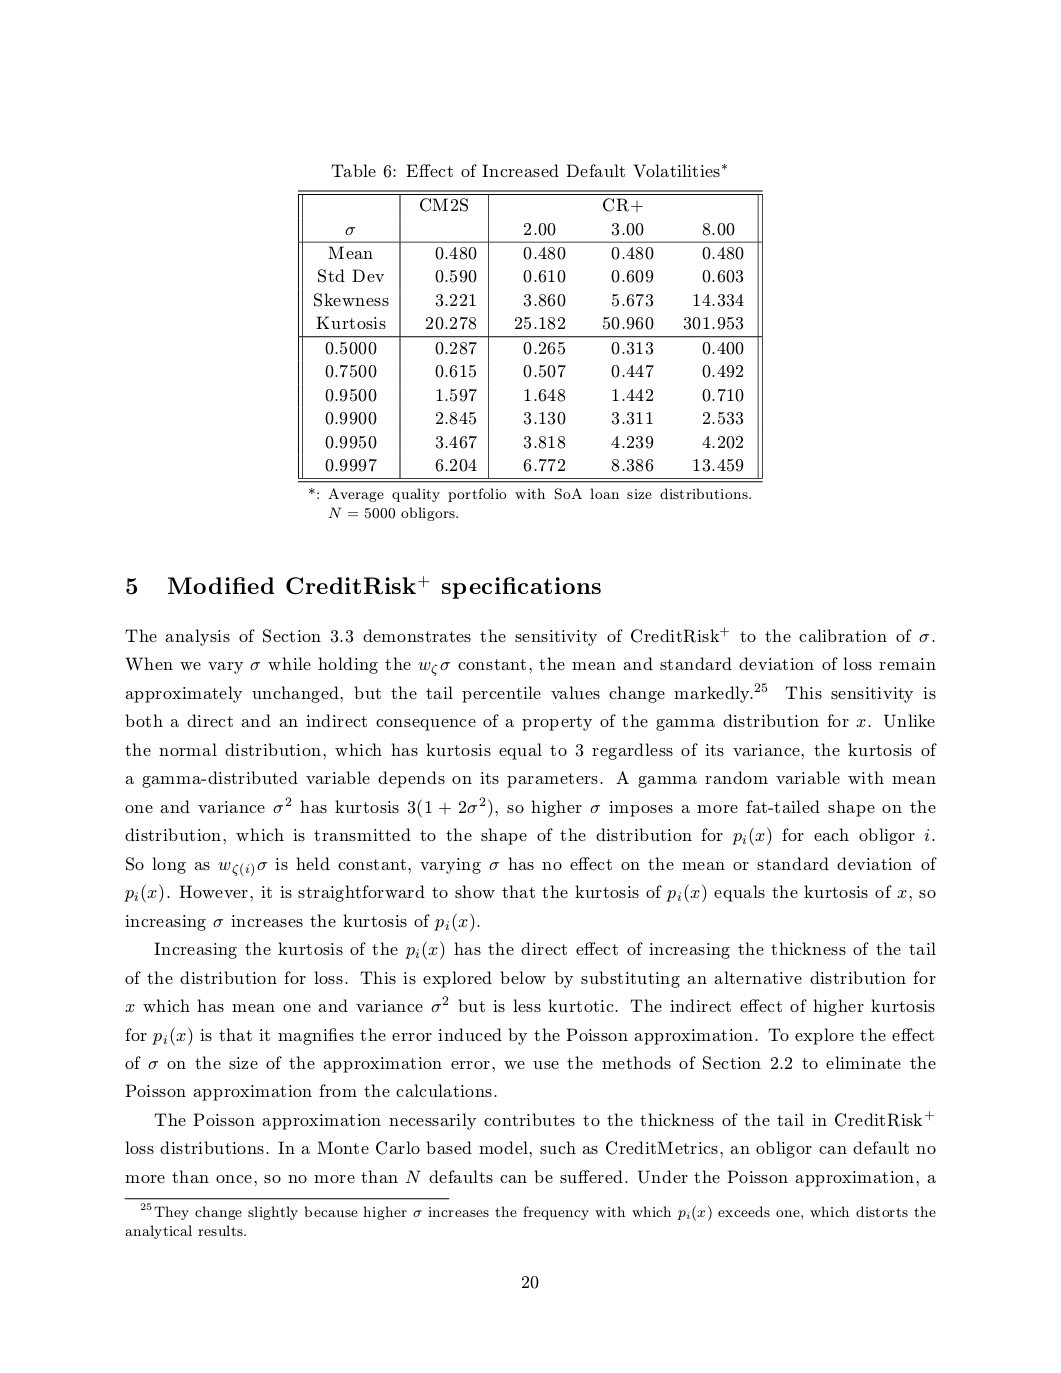Table: (298, 189, 762, 483)
